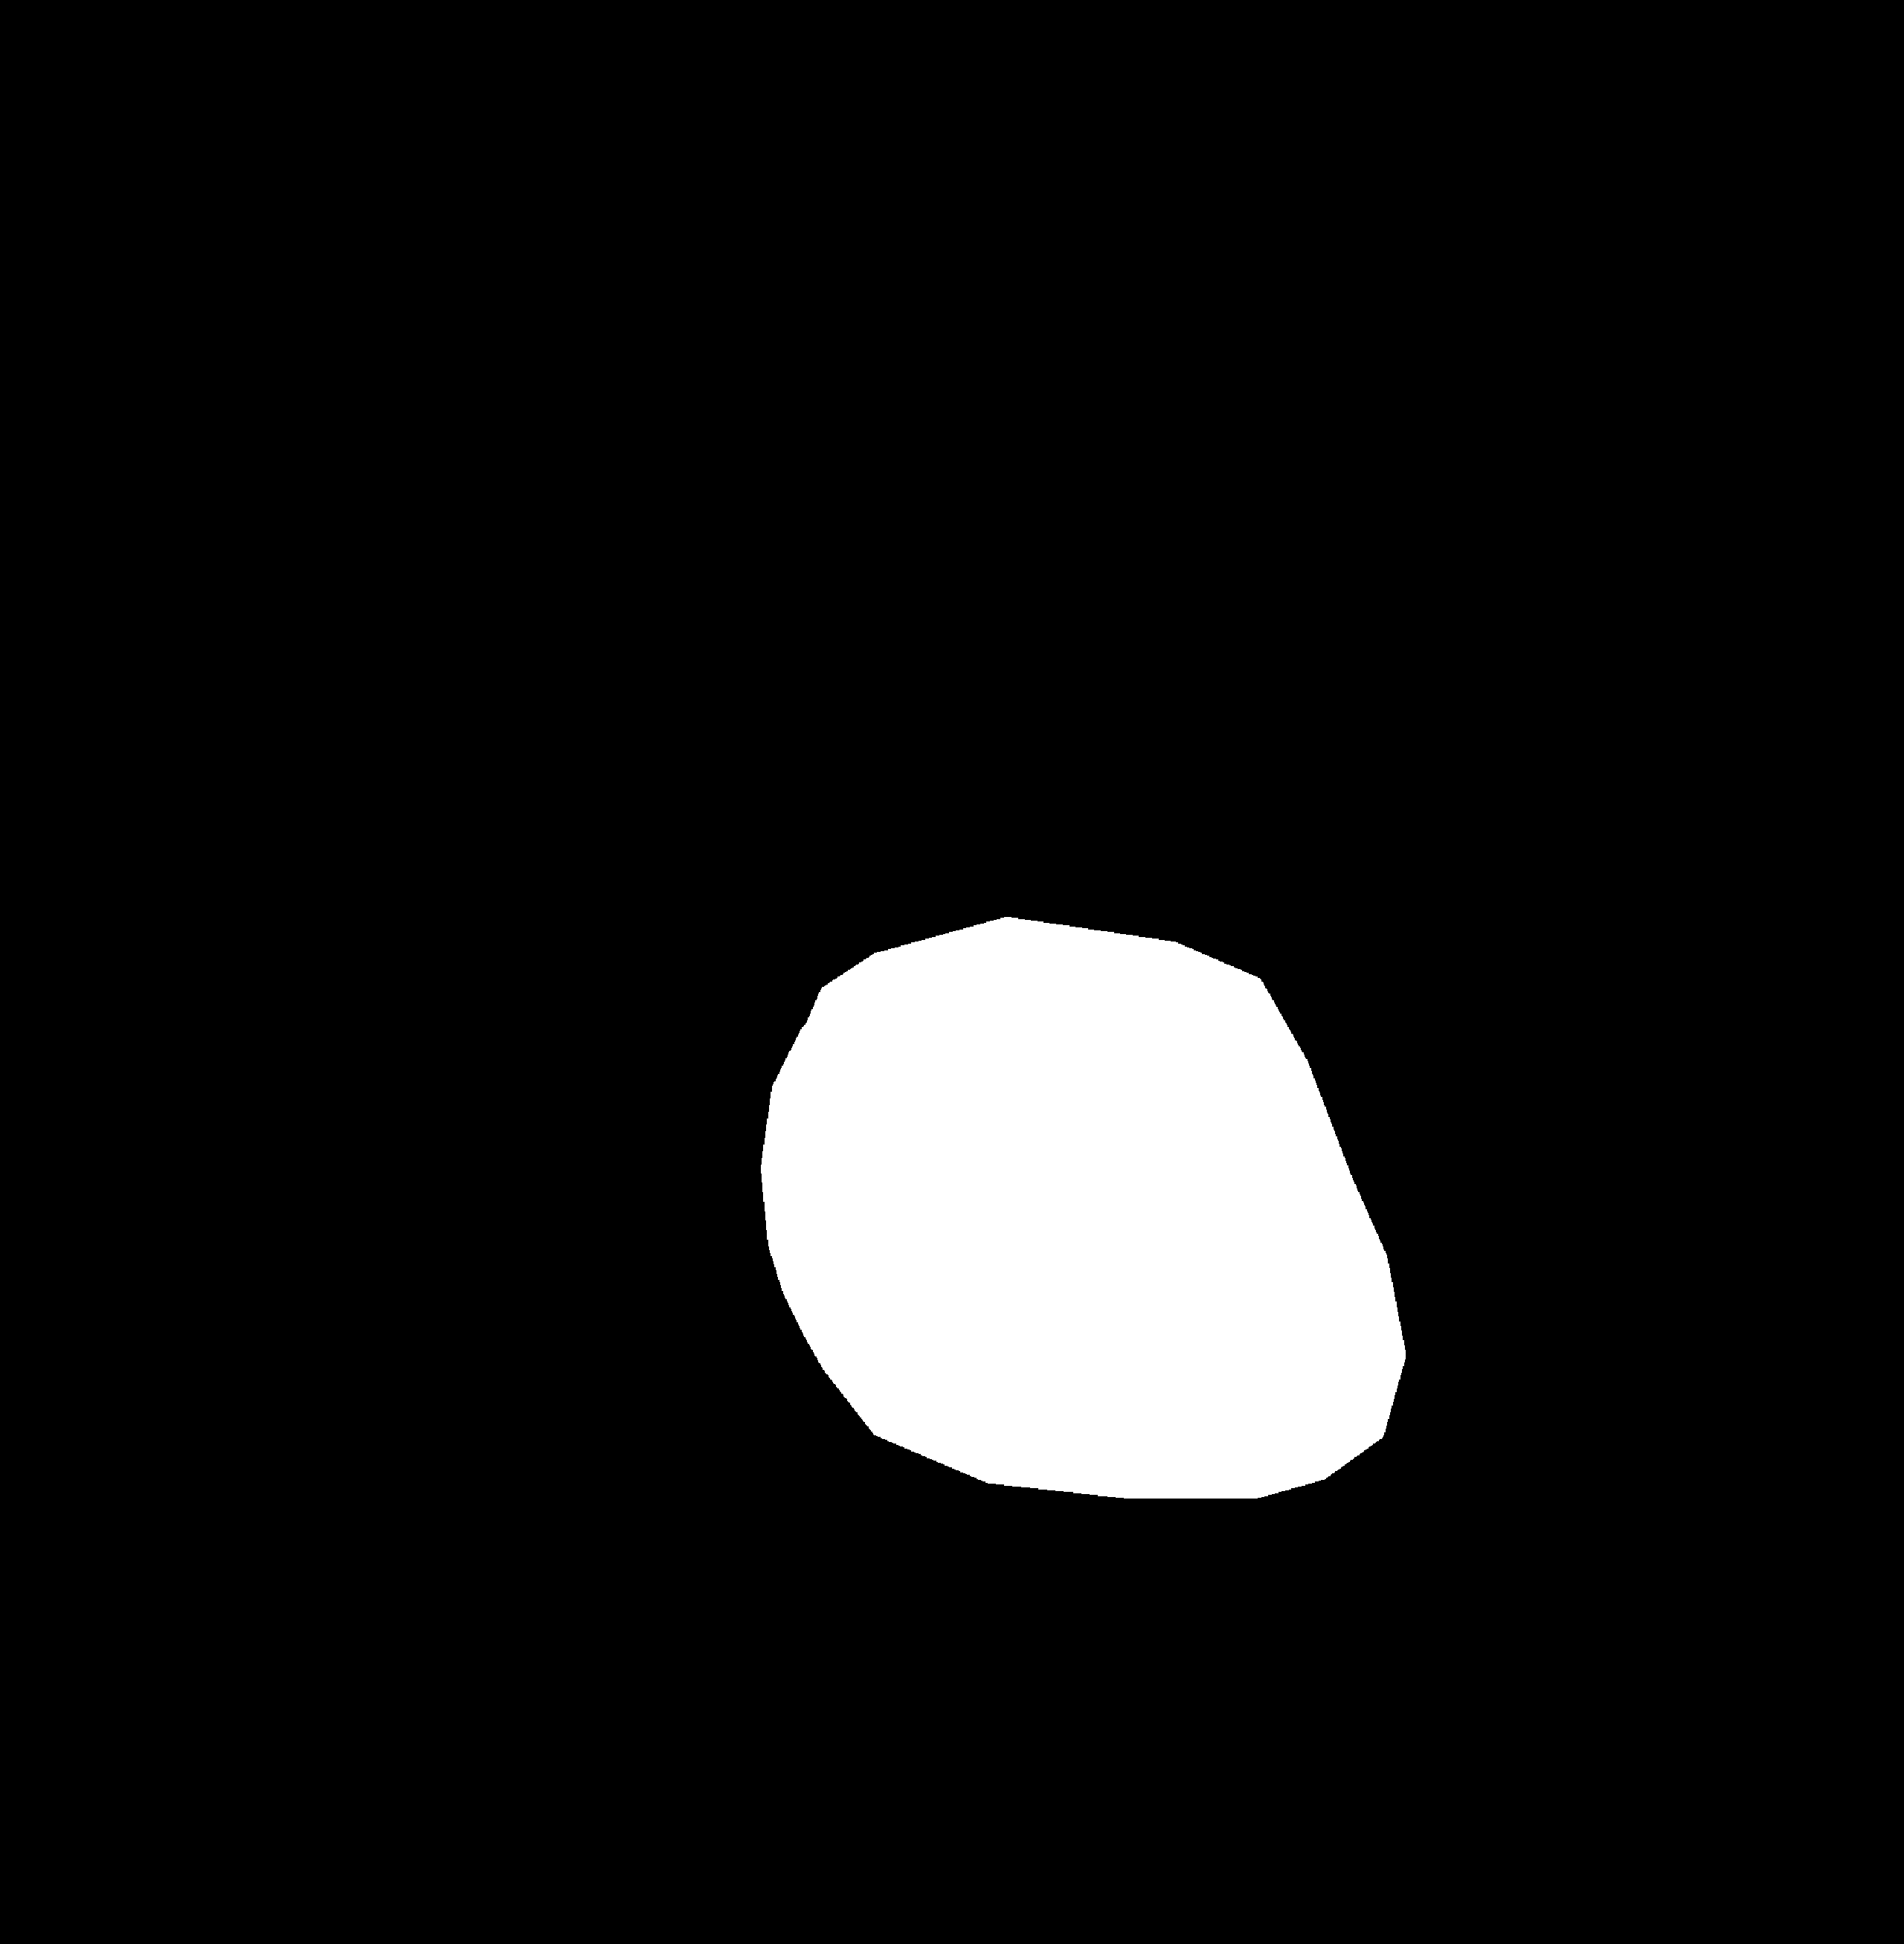heart: (771, 966, 1395, 1548)
left_lung: (286, 399, 825, 1503)
right_lung: (1008, 340, 1731, 1681)
